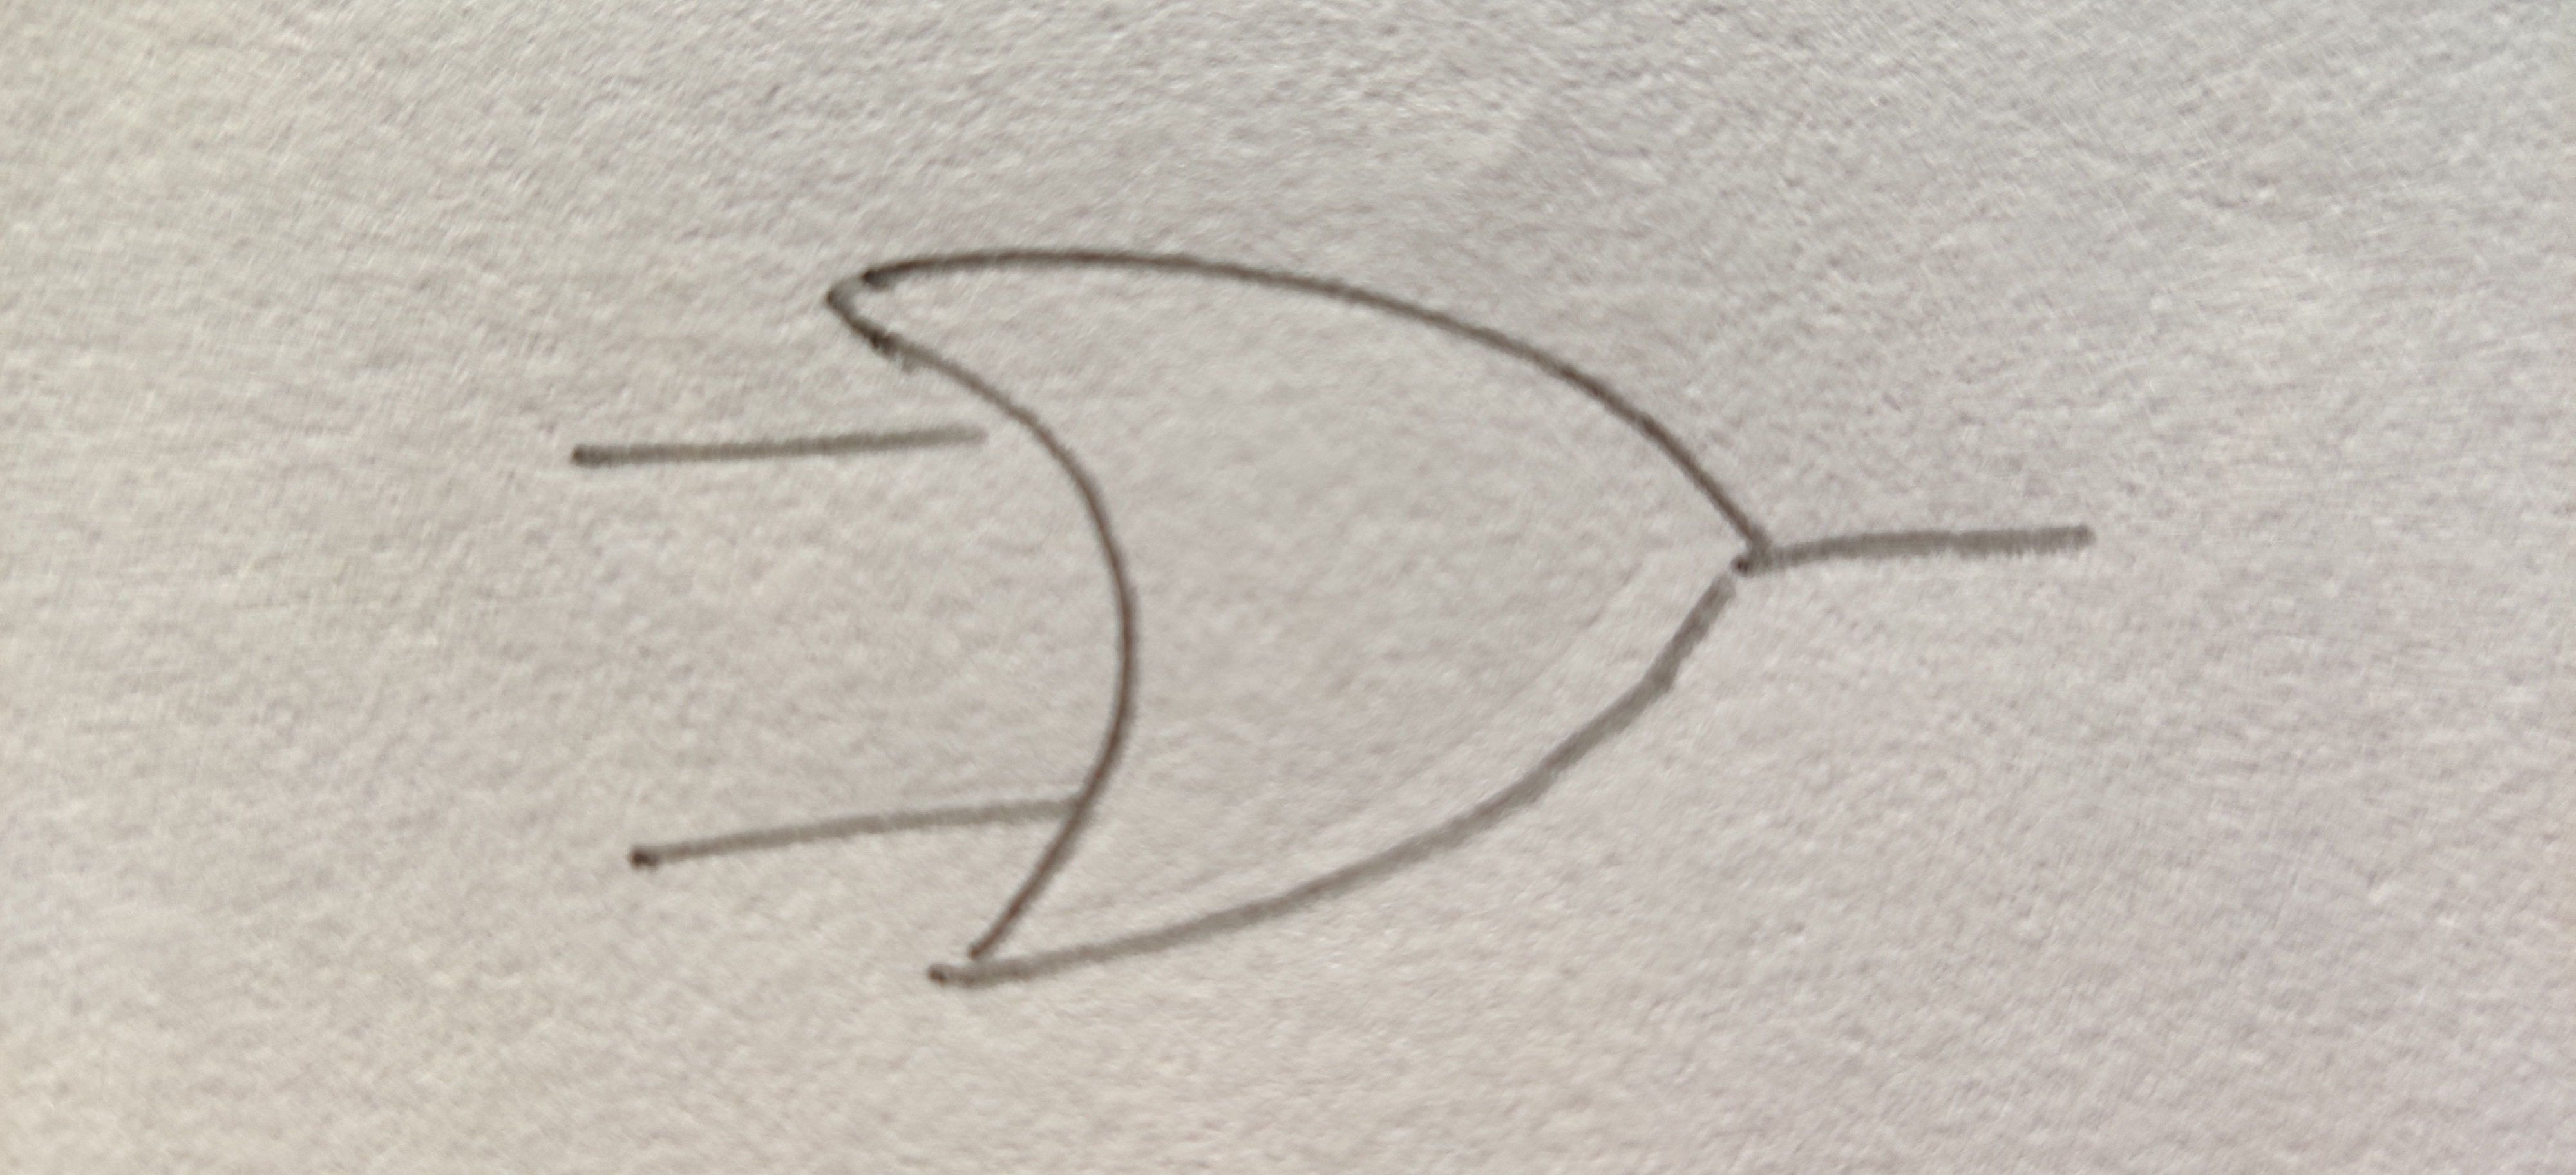or: (826, 248, 1769, 981)
